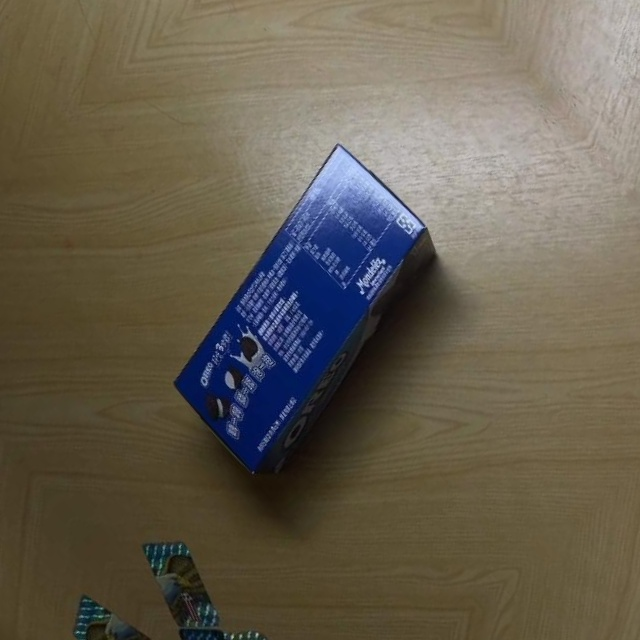Oreo: (122, 134, 489, 492)
